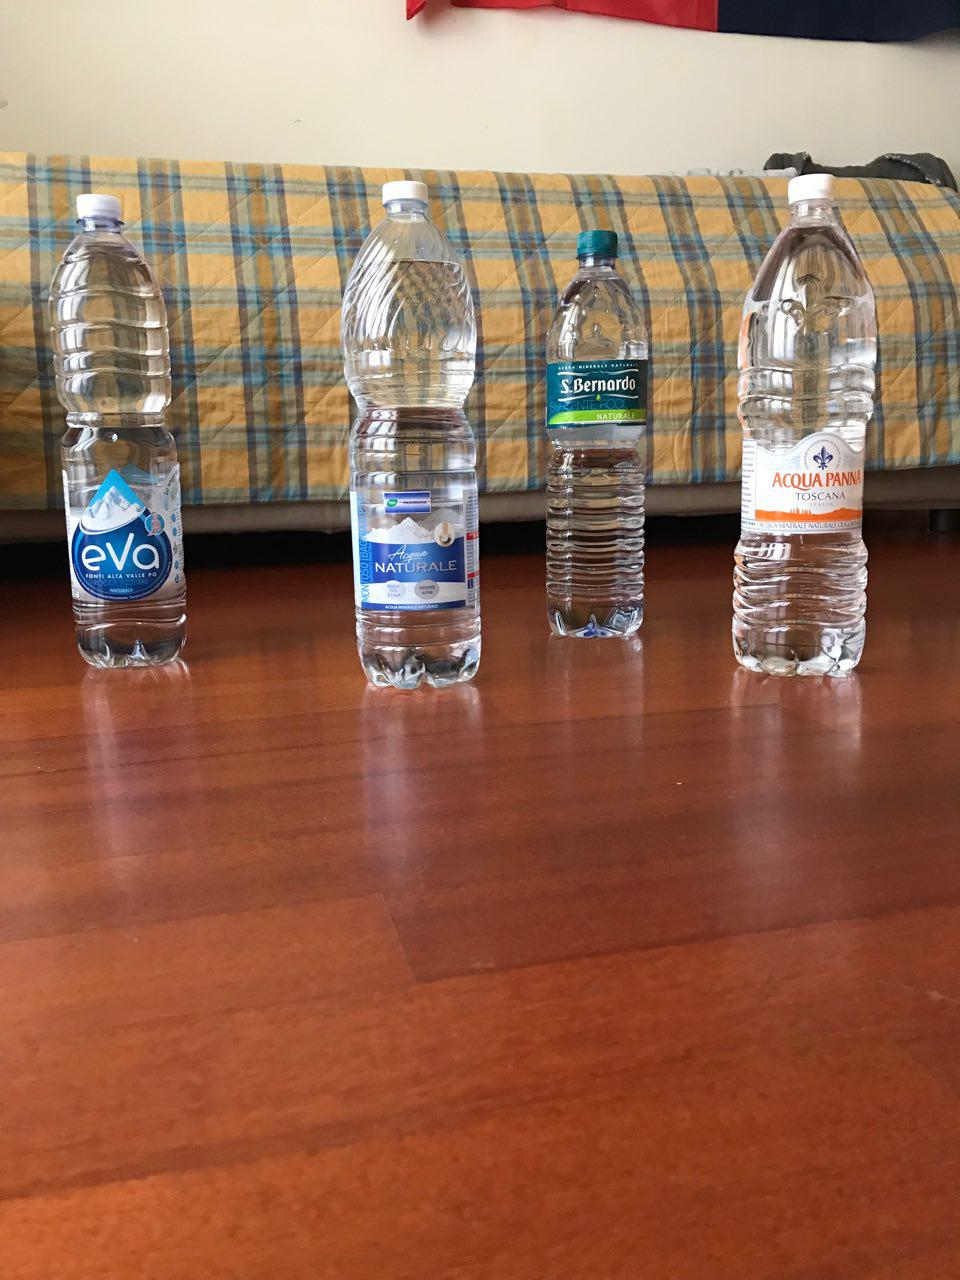san_bernardo: (544, 228, 649, 639)
